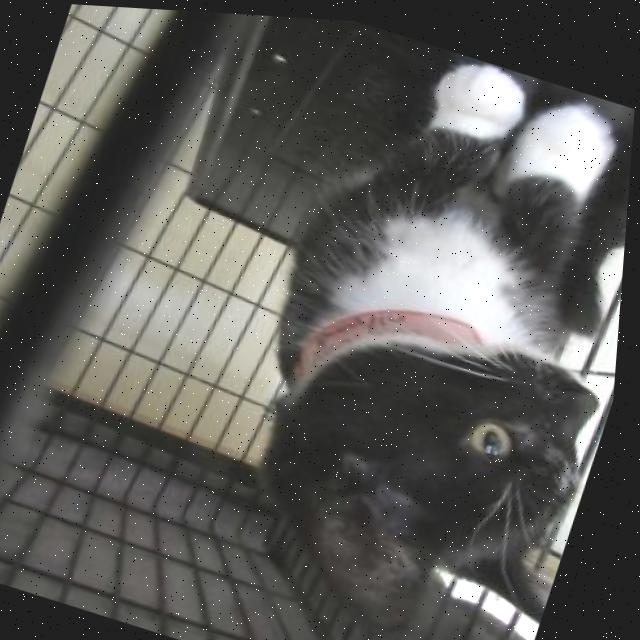Tuxedo: (182, 12, 640, 640)
